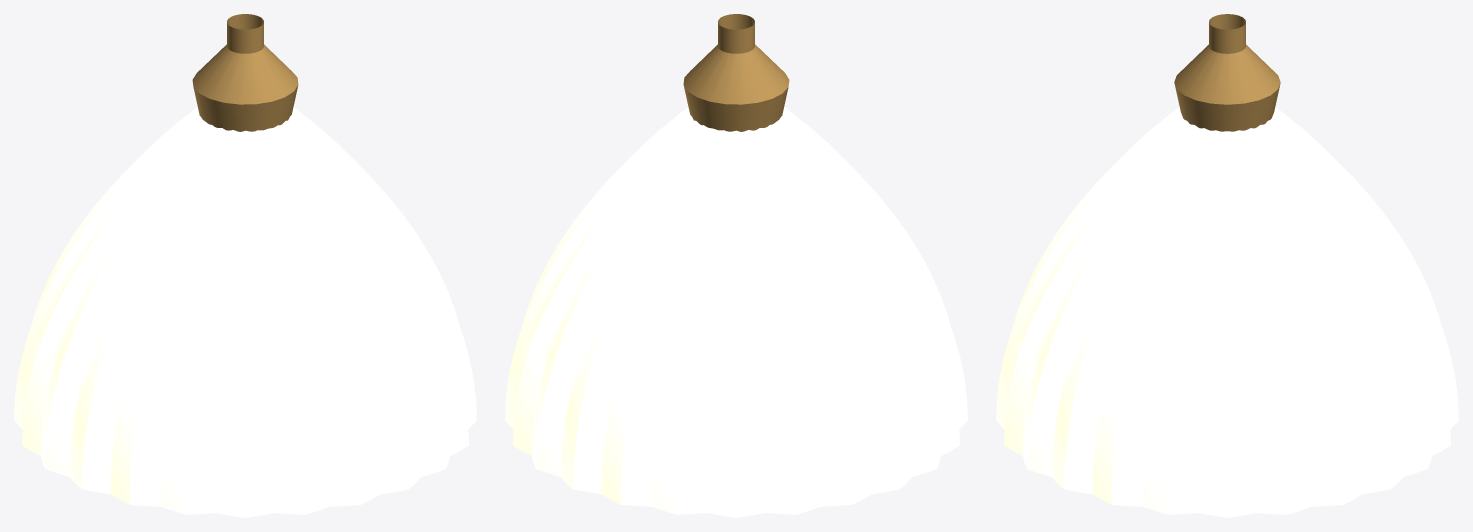
Rendered from fluted.glb.
3 views of the same model, side by side, from view 1: azimuth 30°, elevation 25°; view 2: azimuth 150°, elevation 25°; view 3: azimuth 270°, elevation 25° (orthographic).
Parts seen in each view (by area): view 1: fluted; view 2: fluted; view 3: fluted.
Boxes of the visible parts, left/top/right/bottom form: fluted: left=14, top=14, right=476, bottom=517; fluted: left=505, top=14, right=967, bottom=517; fluted: left=996, top=14, right=1458, bottom=517.
Bounding box in the file's own units: 0.3475 × 0.33 × 0.3475.
